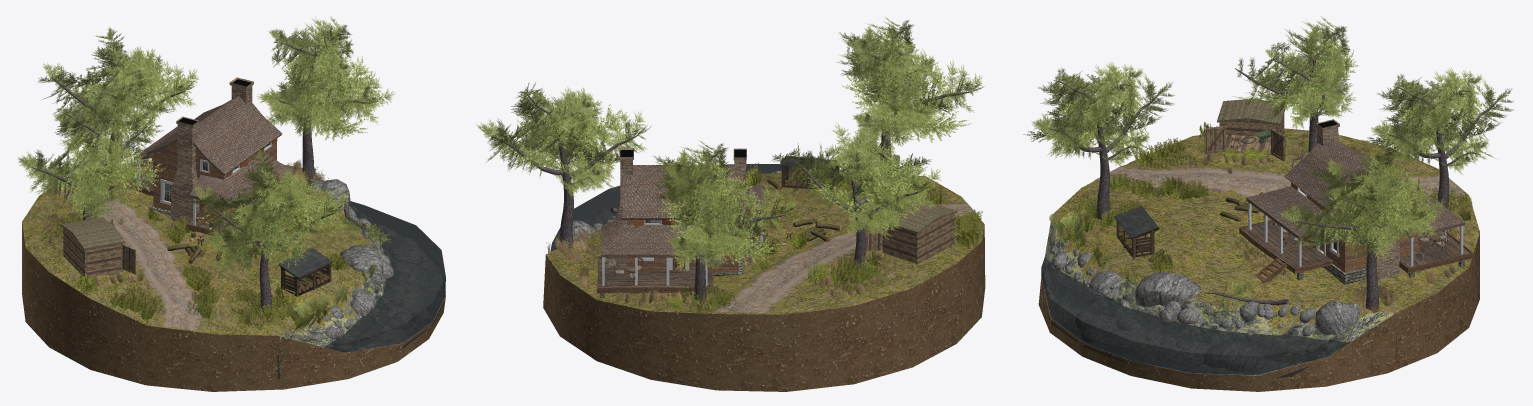
The picture shows the model from 3 angles, left to right: view 1: azimuth 30°, elevation 25°; view 2: azimuth 150°, elevation 25°; view 3: azimuth 270°, elevation 25°; orthographic projection. The views are drawn at different scales.
Visible parts, largest first — view 1: polySurface2, pasted__polySurface404, pasted__polySurface861, pasted__polySurface860, polySurface3, pasted__pasted__pCube1, polySurface1, pasted__pasted__pCube9, pasted__pasted__pCube10, GD1_AaronVanSichemDeCombe_HoutenOpberghut_01:HoutenOpberghut, pasted__pCube20, polySurface79 (+16 smaller); view 2: polySurface2, pasted__polySurface860, pasted__polySurface861, pasted__polySurface404, polySurface1, pasted__pasted__pCube1, pasted__pasted__pCube34, pasted__pasted__pCube37, polySurface3, pasted__pCube2, polySurface335, pasted__pCube20 (+9 smaller); view 3: polySurface2, polySurface3, pasted__polySurface861, pasted__polySurface404, pasted__polySurface860, pasted__pasted__pCube1, polySurface1, pasted__pasted__pCube3, pasted__pasted__pCube9, polySurface79, pasted__pasted__pCube37, GD1_AaronVanSichemDeCombe_HoutenOpberghut_01:HoutenOpberghut (+14 smaller).
Part boxes in pixels (x1,y1,x2,y2): polySurface2: [22, 162, 445, 391]; pasted__polySurface404: [187, 149, 349, 311]; pasted__polySurface861: [257, 16, 395, 178]; pasted__polySurface860: [37, 27, 198, 178]; polySurface3: [277, 201, 445, 378]; pasted__pasted__pCube1: [146, 96, 282, 222]; polySurface1: [43, 177, 208, 332]; pasted__pasted__pCube9: [189, 151, 294, 208]; pasted__pasted__pCube10: [171, 116, 199, 223]; GD1_AaronVanSichemDeCombe_HoutenOpberghut_01:HoutenOpberghut: [277, 247, 332, 296]; pasted__pCube20: [61, 217, 125, 250]; polySurface79: [340, 245, 383, 286]; polySurface2: [543, 172, 985, 391]; pasted__polySurface860: [652, 140, 798, 300]; pasted__polySurface861: [476, 82, 650, 248]; pasted__polySurface404: [837, 17, 984, 186]; polySurface1: [703, 202, 981, 314]; pasted__pasted__pCube1: [622, 165, 743, 272]; pasted__pasted__pCube34: [601, 216, 708, 257]; pasted__pasted__pCube37: [597, 256, 713, 293]; polySurface3: [545, 164, 826, 281]; pasted__pCube2: [916, 213, 954, 264]; polySurface335: [669, 283, 747, 314]; pasted__pCube20: [888, 200, 957, 233]; polySurface2: [1038, 128, 1479, 391]; polySurface3: [1041, 257, 1396, 378]; pasted__polySurface861: [1279, 137, 1446, 310]; pasted__polySurface404: [1023, 62, 1174, 220]; pasted__polySurface860: [1362, 67, 1513, 208]; pasted__pasted__pCube1: [1284, 138, 1426, 272]; polySurface1: [1092, 164, 1470, 202]; pasted__pasted__pCube3: [1239, 219, 1332, 273]; pasted__pasted__pCube9: [1246, 186, 1328, 239]; polySurface79: [1135, 271, 1200, 306]; pasted__pasted__pCube37: [1399, 230, 1472, 273]; GD1_AaronVanSichemDeCombe_HoutenOpberghut_01:HoutenOpberghut: [1113, 206, 1159, 258].
Size of the model in its own units: 33.85 by 17.43 by 36.05.
